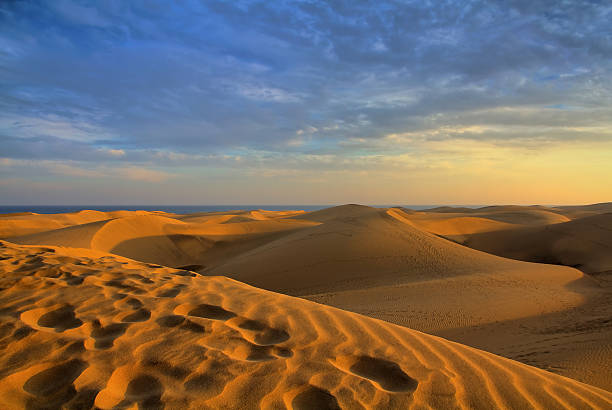human_footprint: (0, 257, 608, 408), (174, 303, 292, 360), (332, 355, 417, 392), (23, 358, 87, 407), (95, 366, 163, 408), (20, 304, 82, 332), (228, 318, 289, 344), (85, 319, 129, 348), (290, 385, 340, 409), (37, 305, 82, 331), (174, 303, 236, 320), (155, 314, 205, 332), (153, 283, 185, 297), (119, 308, 150, 322)
